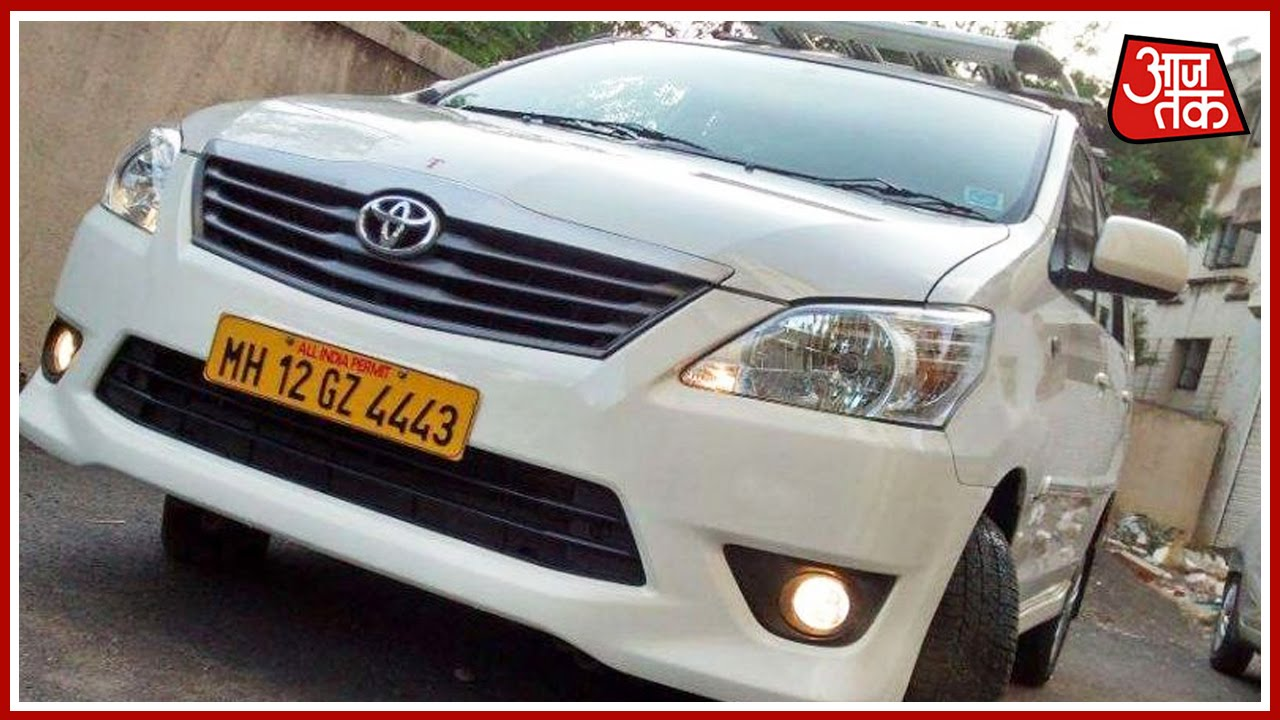numberplate: (202, 302, 484, 467)
